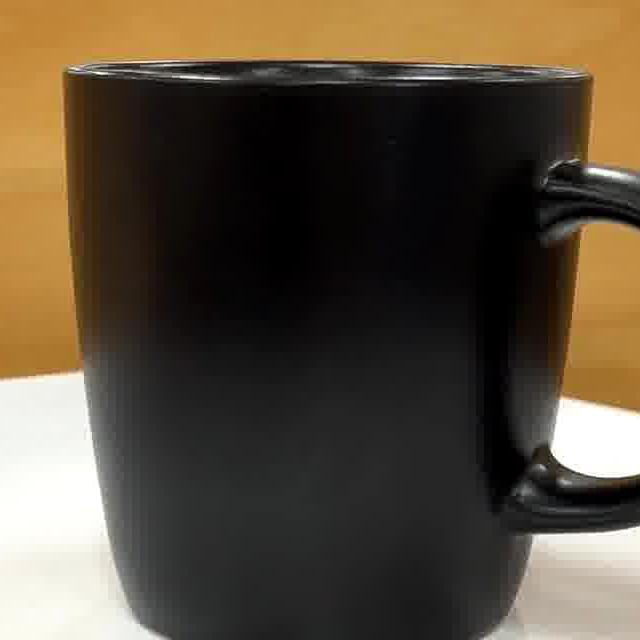cup: (71, 61, 640, 640)
